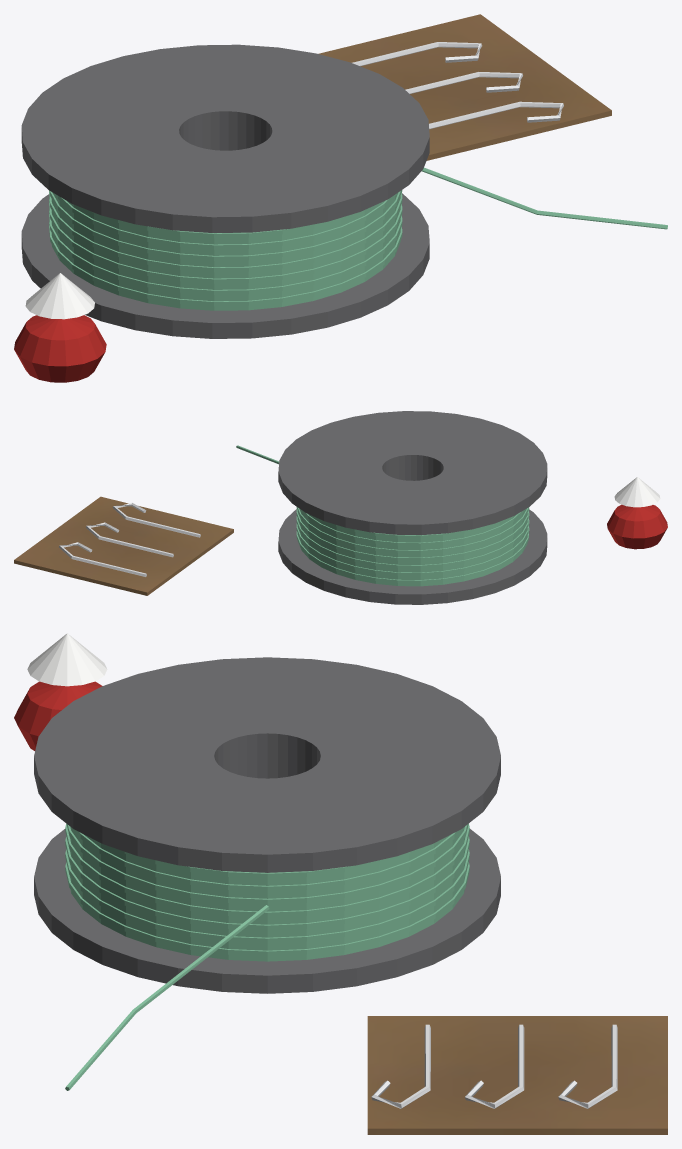
Rendered from linha_pesca.glb.
3 views of the same model, one above another, from view 1: azimuth 30°, elevation 25°; view 2: azimuth 150°, elevation 25°; view 3: azimuth 270°, elevation 25° (orthographic). The views are drawn at different scales.
Visible parts, largest first — view 1: linha_pesca_plastico_preto, linha_pesca_linha_verde, linha_pesca_papelao, linha_pesca_plastico_vermelho, linha_pesca_aco_polido, linha_pesca_plastico_branco; view 2: linha_pesca_plastico_preto, linha_pesca_linha_verde, linha_pesca_papelao, linha_pesca_plastico_vermelho, linha_pesca_aco_polido, linha_pesca_plastico_branco; view 3: linha_pesca_plastico_preto, linha_pesca_linha_verde, linha_pesca_papelao, linha_pesca_aco_polido, linha_pesca_plastico_branco, linha_pesca_plastico_vermelho.
Part boxes in pixels (x1,y1,x2,y2): linha_pesca_plastico_preto: (21, 44, 429, 338); linha_pesca_linha_verde: (49, 167, 667, 310); linha_pesca_papelao: (318, 14, 611, 160); linha_pesca_plastico_vermelho: (14, 315, 106, 382); linha_pesca_aco_polido: (352, 42, 563, 129); linha_pesca_plastico_branco: (25, 273, 94, 319); linha_pesca_plastico_preto: (278, 411, 547, 604); linha_pesca_linha_verde: (236, 445, 529, 586); linha_pesca_papelao: (14, 496, 233, 595); linha_pesca_plastico_vermelho: (607, 504, 667, 549); linha_pesca_aco_polido: (59, 502, 200, 576); linha_pesca_plastico_branco: (614, 477, 660, 507); linha_pesca_plastico_preto: (34, 657, 500, 993); linha_pesca_linha_verde: (65, 823, 469, 1090); linha_pesca_papelao: (367, 1016, 667, 1134); linha_pesca_aco_polido: (371, 1024, 617, 1108); linha_pesca_plastico_branco: (27, 633, 107, 686); linha_pesca_plastico_vermelho: (14, 681, 102, 750).
Size of the model in its own units: 0.143 by 0.023 by 0.098.
Materials: 6 (1 with a texture image).
